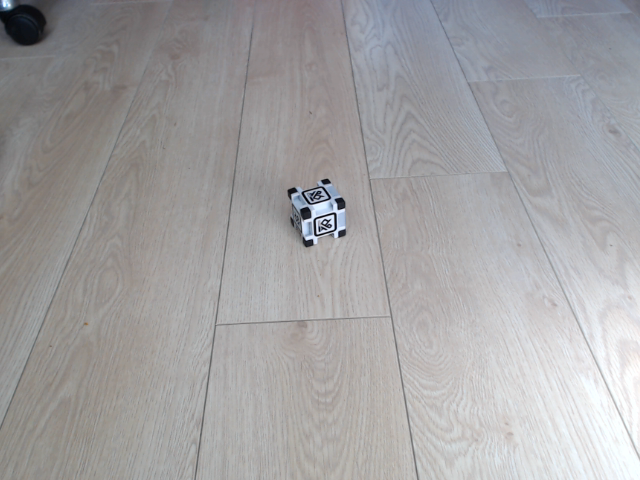block: (278, 176, 353, 249)
